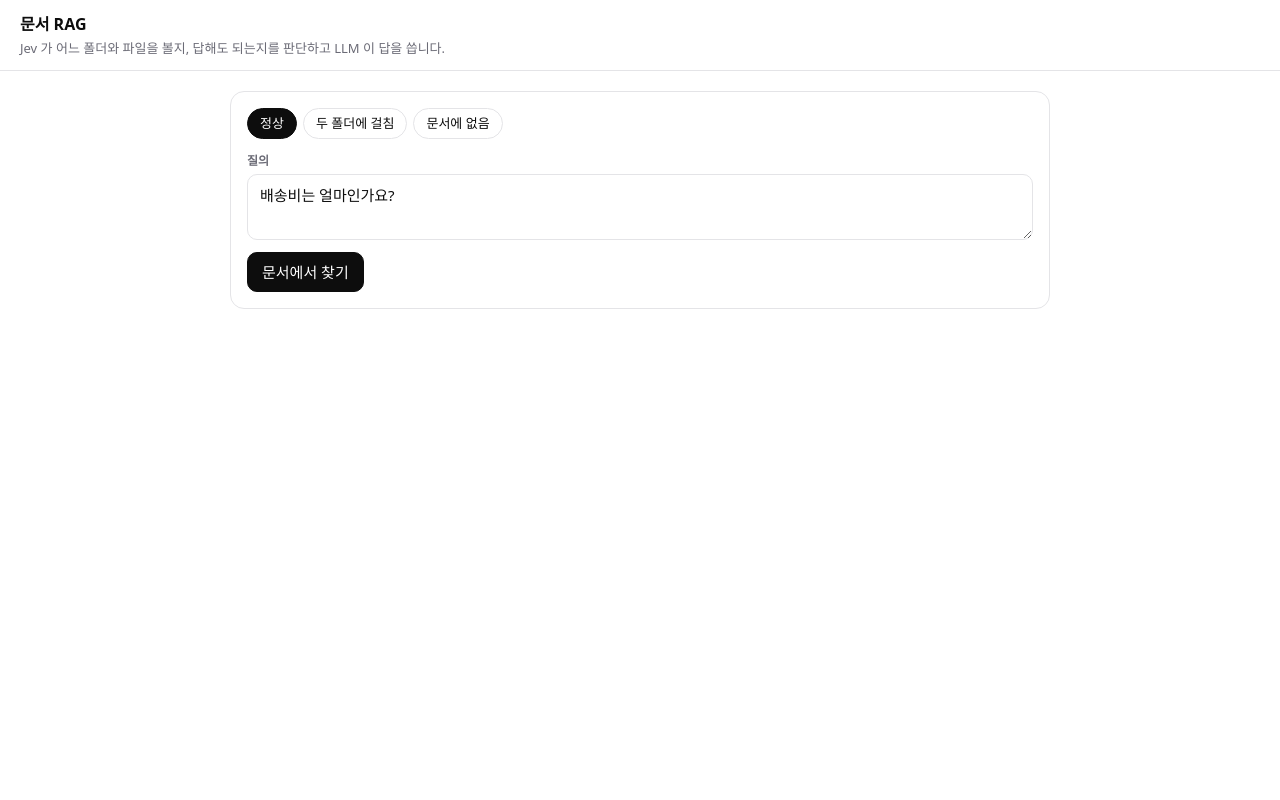
Test case: RagTab › should show every bar of a two-folder file step grouped by folder
Click the button "문서에서 찾기". click: [305, 272]
box: [247,252,364,292]
(page scrolled)
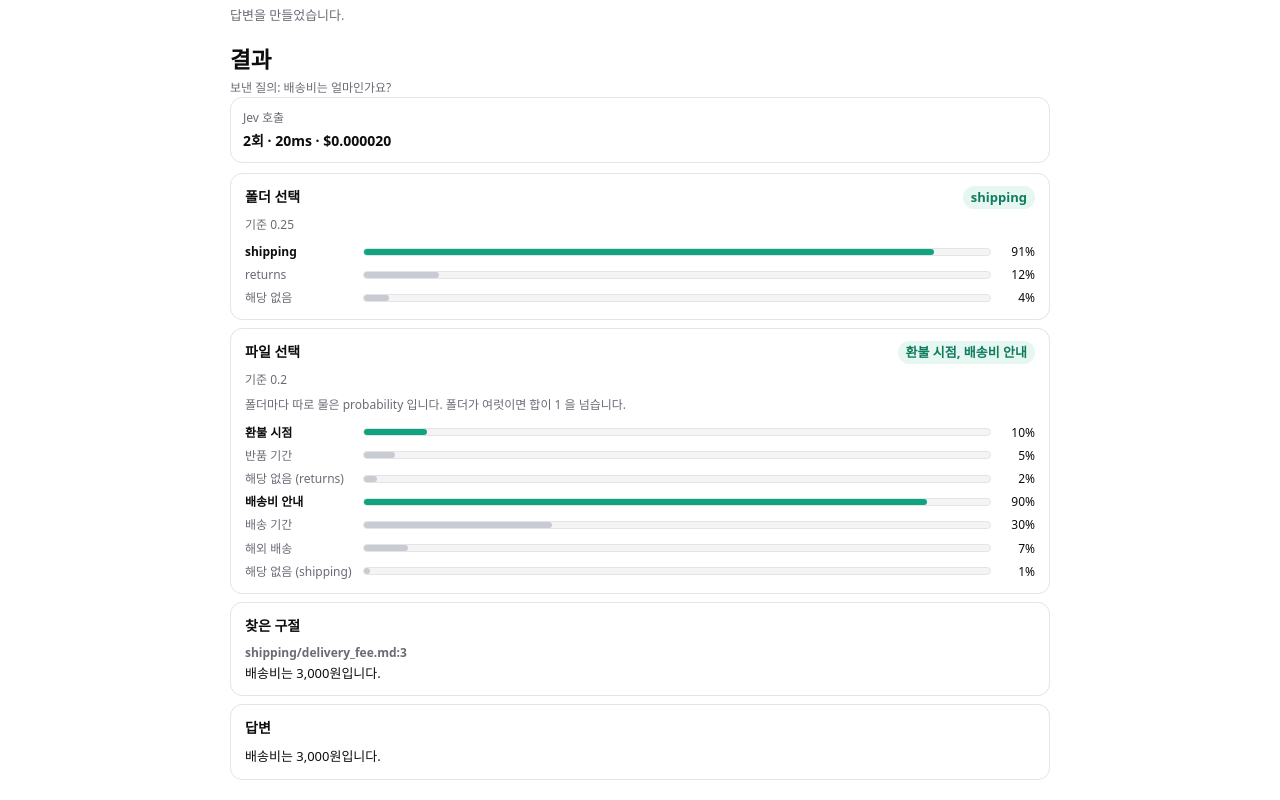
Expected: the element named "RAG 결과" is shown, [230,42,1050,780]
